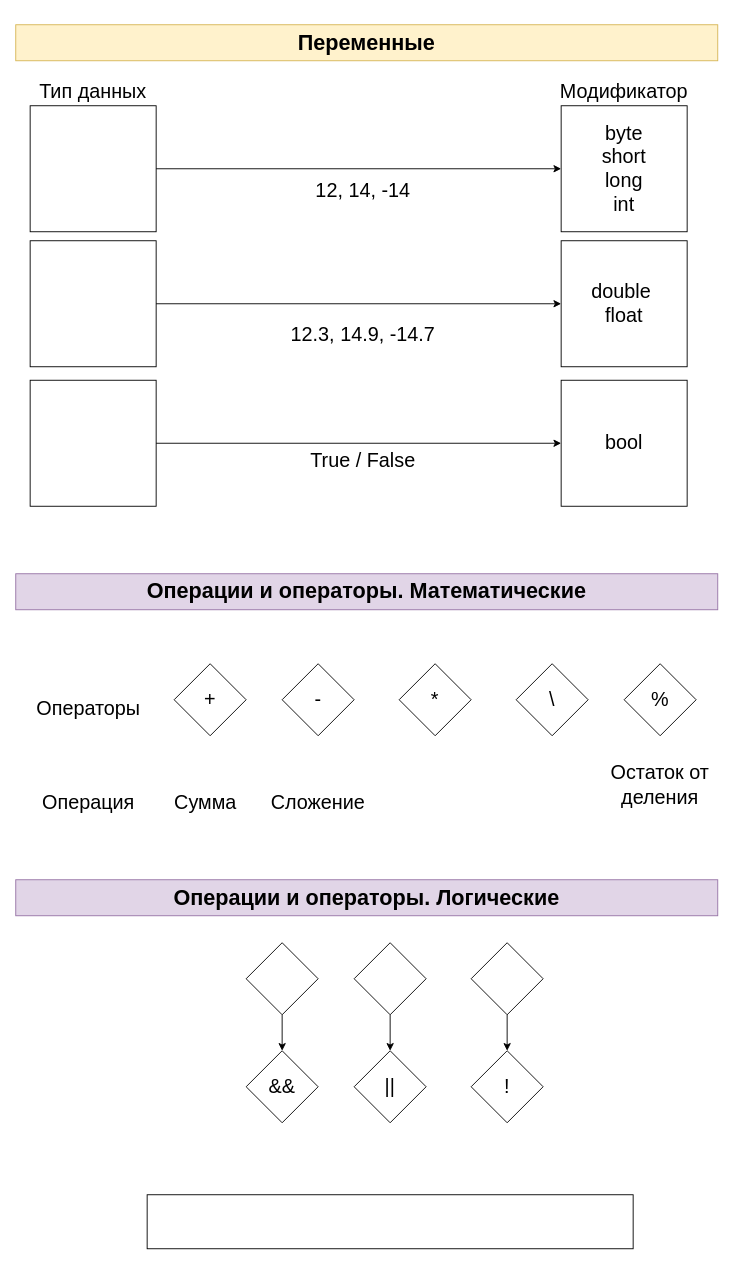
Some shapes in this 734 by 1265 pixel diagram are drawn without their labels. The shapes that lost their labels are listed below. From the top down, each one's box as (x1, y1, x2, y2) in pixels, then its label:
(29, 105, 156, 232): Целые числа
(29, 240, 156, 367): Дробные числа
(29, 379, 156, 506): Булианы
(245, 942, 318, 1015): and
(353, 942, 426, 1015): or
(470, 942, 543, 1015): not
(146, 1194, 633, 1249): >, <, <=, >=, ==, !=, -> TRUE or False
